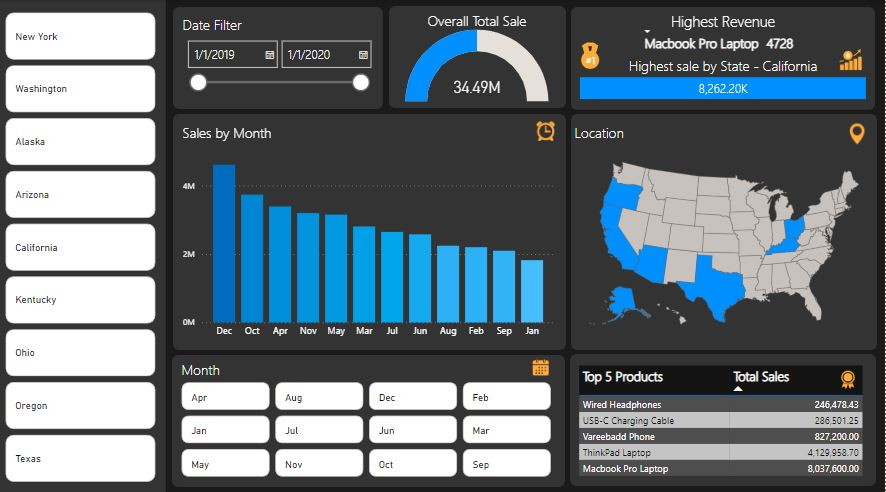

What the dashboard file says about the page in this screenshot:
{"tool":"powerbi","page":{"name":"Dashboard","canvas":[1280,720],"ordinal":0},"visuals":[{"type":"shape","box":[0,0,1280.2,709.9],"z":0},{"type":"shape","box":[826.3,10.3,437.7,148.3],"z":1000,"group":"g7"},{"type":"shape","box":[825.6,509.8,440.6,190.1],"z":1000,"group":"g6"},{"type":"funnel","title":"Highest sale by State - California","fields":{"Category":["data.STATES"],"Y":["Sum(data.SALES)"]},"box":[829.3,80.9,431.8,70.6],"z":2000,"group":"g7"},{"type":"shape","box":[826.3,164.6,440.6,339.8],"z":2000,"group":"g5"},{"type":"tableEx","title":"Highest Revenue","fields":{"Values":["data.PRODUCTS","Sum(data.QUANTITY)"]},"box":[921.2,21.8,249.3,63.4],"z":3000,"group":"g7"},{"type":"shape","box":[253.2,10.3,302.4,146.9],"z":4000,"group":"g1"},{"type":"image","box":[515.5,24.5,51.8,33.1],"z":4000},{"type":"shape","box":[564.5,8.6,254.9,146.9],"z":5000,"group":"g2"},{"type":"image","box":[824.8,56.4,57.9,47.5],"z":5000,"group":"g7"},{"type":"tableEx","title":"Top Five","fields":{"Values":["data.PRODUCTS","Sum(data.SALES)"]},"box":[833,521.3,421.3,169.9],"z":5000,"group":"g6"},{"type":"shape","box":[0,0,243,709.9],"z":6000},{"type":"shape","box":[253.2,164.6,565.9,339.8],"z":6000,"group":"g4"},{"type":"image","box":[1207.6,62.1,41.5,47.5],"z":7000,"group":"g7"},{"type":"shape","box":[252.7,510.9,565.9,190.1],"z":7000,"group":"g3"},{"type":"advancedSlicerVisual","fields":{"Values":["data.STATES"]},"box":[7.2,13,226.1,688.3],"z":8000},{"type":"image","box":[1202.9,528.5,46.1,37.4],"z":8000,"group":"g6"},{"type":"group","id":"g1","title":"Group 2","box":[253.2,10.3,302.4,146.9],"z":9000},{"type":"gauge","title":"Overall Total Sale","fields":{"Y":["Sum(data.SALES)"]},"box":[573.8,16.1,236.1,134.9],"z":9000,"group":"g2"},{"type":"group","id":"g2","title":"Group 3","box":[564.5,8.6,254.9,146.9],"z":10000},{"type":"shapeMap","title":"      Location","fields":{"Category":["data.STATES"],"Series":["data.STATES"]},"box":[826.3,177.6,440.6,318.2],"z":10000,"group":"g5"},{"type":"group","id":"g3","title":"Group 4","box":[252.7,510.9,565.9,190.1],"z":11000},{"type":"advancedSlicerVisual","title":"Month","fields":{"Values":["data.MONTH"]},"box":[261.3,518.1,546,174.2],"z":11000,"group":"g3"},{"type":"group","id":"g4","title":"Group 1","box":[253.2,164.6,565.9,339.8],"z":12000},{"type":"clusteredColumnChart","title":"Sales by Month","fields":{"Category":["data.MONTH"],"Y":["Sum(data.SALES)"]},"box":[261.8,177.6,546,318.2],"z":12000,"group":"g4"},{"type":"group","id":"g5","title":"Group 5","box":[826.3,164.6,440.6,339.8],"z":13000},{"type":"image","box":[1220.8,173.2,34.2,40.3],"z":14000,"group":"g5"},{"type":"group","id":"g6","title":"Group 6","box":[825.6,509.8,440.6,190.1],"z":14000},{"type":"textbox","box":[826.1,11.7,437.7,38.9],"z":15000,"group":"g7"},{"type":"image","box":[758.7,512.3,51.3,33.1],"z":15000,"group":"g3"},{"type":"group","id":"g7","title":"Group 7","box":[824.8,10.3,439.2,148.3],"z":15003},{"type":"image","box":[765.8,170.4,49,38],"z":19500,"group":"g4"},{"type":"slicer","title":"Date Filter","fields":{"Values":["data.DATE"]},"box":[261.8,22.3,283.7,124.4],"z":22000,"group":"g1"}]}

Visuals, with their boxes in screenshot pixels (x1, y1, x2, y2), scaled from the page's 1280x720 canvas onto the 886x492 screenshot:
shape: (left=0, top=0, right=885, bottom=485)
shape: (left=572, top=7, right=875, bottom=108)
shape: (left=571, top=348, right=876, bottom=478)
"Highest sale by State - California" funnel: (left=574, top=55, right=873, bottom=104)
shape: (left=572, top=112, right=877, bottom=345)
"Highest Revenue" tableEx: (left=638, top=15, right=810, bottom=58)
shape: (left=175, top=7, right=385, bottom=107)
image: (left=357, top=17, right=393, bottom=39)
shape: (left=391, top=6, right=567, bottom=106)
image: (left=571, top=39, right=611, bottom=71)
"Top Five" tableEx: (left=577, top=356, right=868, bottom=472)
shape: (left=0, top=0, right=168, bottom=485)
shape: (left=175, top=112, right=567, bottom=345)
image: (left=836, top=42, right=865, bottom=75)
shape: (left=175, top=349, right=567, bottom=479)
advancedSlicerVisual - data.STATES: (left=5, top=9, right=161, bottom=479)
image: (left=833, top=361, right=865, bottom=387)
"Group 2" group: (left=175, top=7, right=385, bottom=107)
"Overall Total Sale" gauge: (left=397, top=11, right=561, bottom=103)
"Group 3" group: (left=391, top=6, right=567, bottom=106)
"      Location" shapeMap: (left=572, top=121, right=877, bottom=339)
"Group 4" group: (left=175, top=349, right=567, bottom=479)
"Month" advancedSlicerVisual: (left=181, top=354, right=559, bottom=473)
"Group 1" group: (left=175, top=112, right=567, bottom=345)
"Sales by Month" clusteredColumnChart: (left=181, top=121, right=559, bottom=339)
"Group 5" group: (left=572, top=112, right=877, bottom=345)
image: (left=845, top=118, right=869, bottom=146)
"Group 6" group: (left=571, top=348, right=876, bottom=478)
textbox: (left=572, top=8, right=875, bottom=35)
image: (left=525, top=350, right=561, bottom=373)
"Group 7" group: (left=571, top=7, right=875, bottom=108)
image: (left=530, top=116, right=564, bottom=142)
"Date Filter" slicer: (left=181, top=15, right=378, bottom=100)
